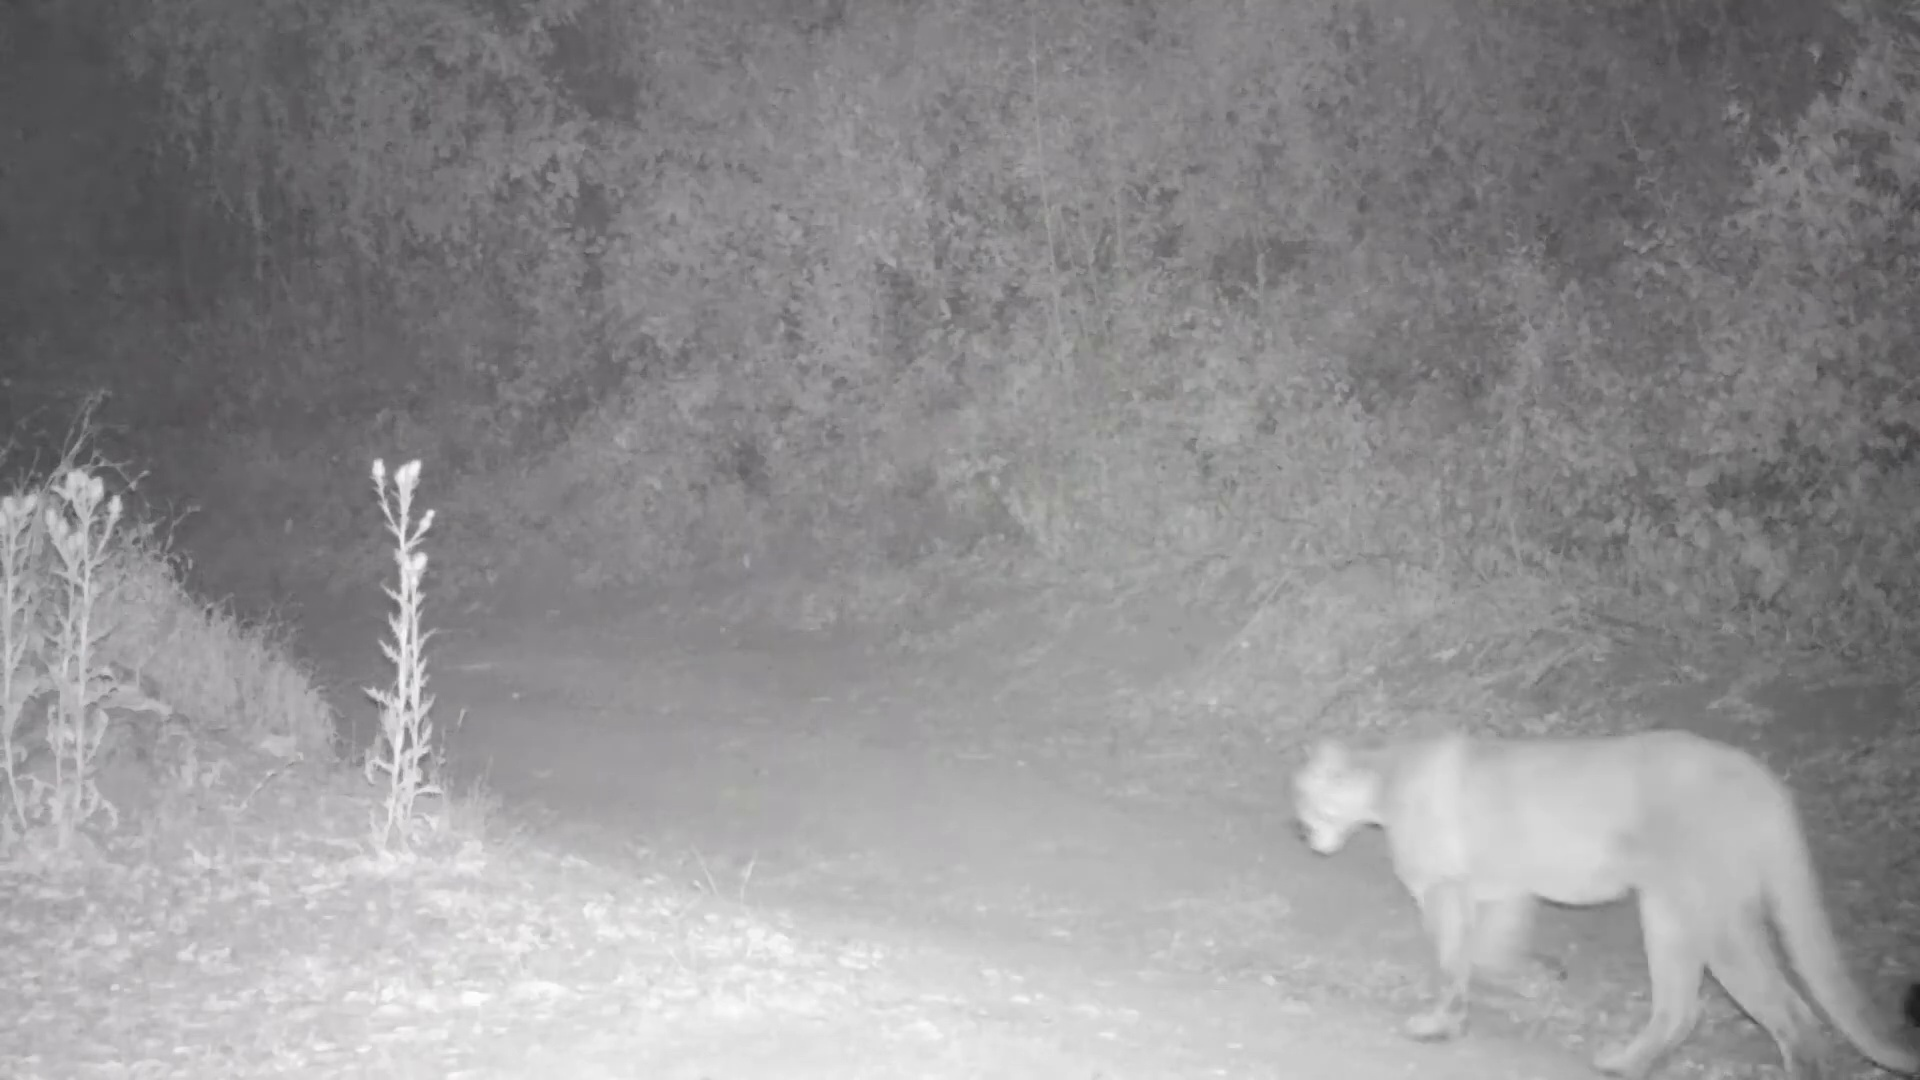Lion: (1286, 725, 1920, 1080)
